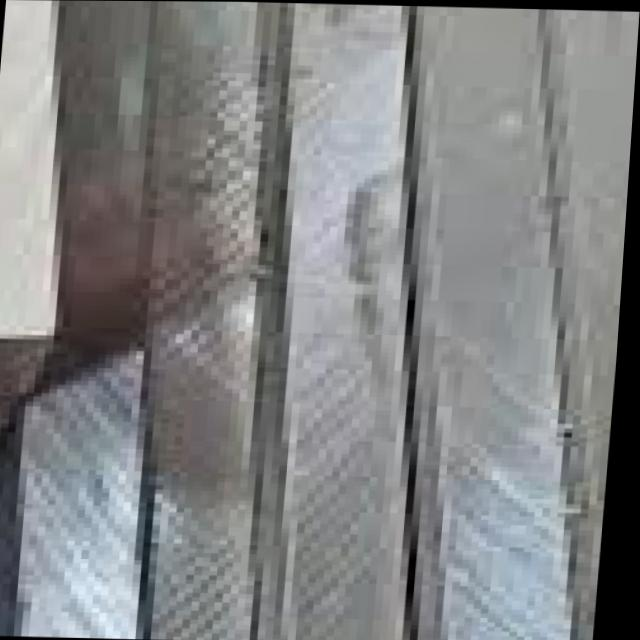metal-plates: (1, 1, 640, 640)
